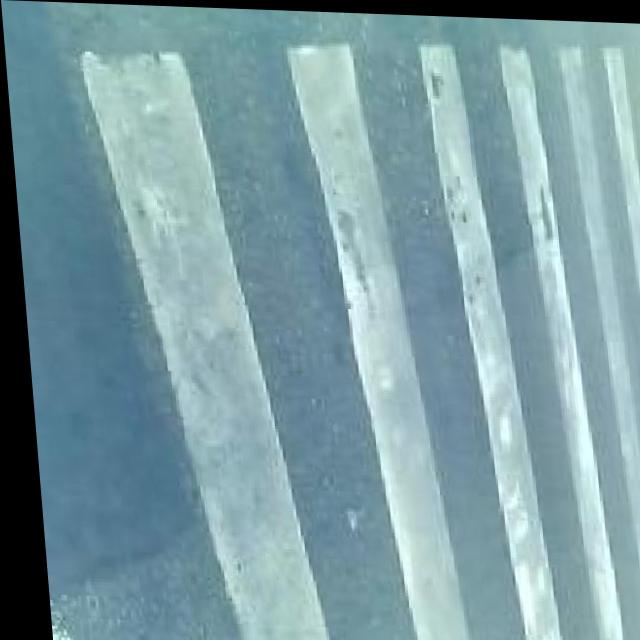zebra: (1, 17, 640, 640)
